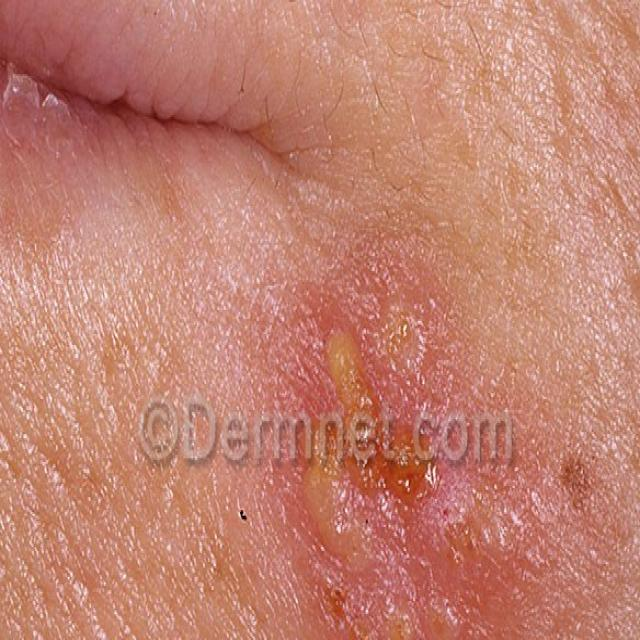Viral Infections: (285, 254, 501, 640)
